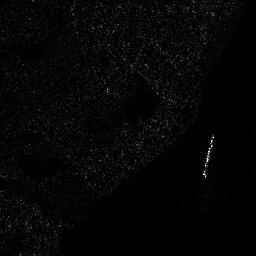ship: (202, 135, 215, 178)
